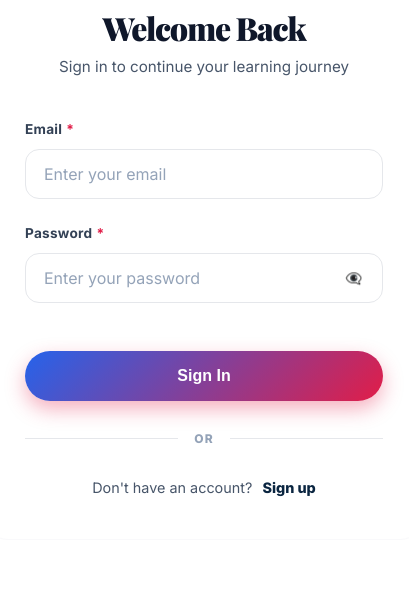
Scenario: LoginForm › shows validation error for invalid email
The width and height of the screenshot is (409, 611).
Type "invalid-email" into the field labelled "Email*" at (204,174), box [25,149,383,199]
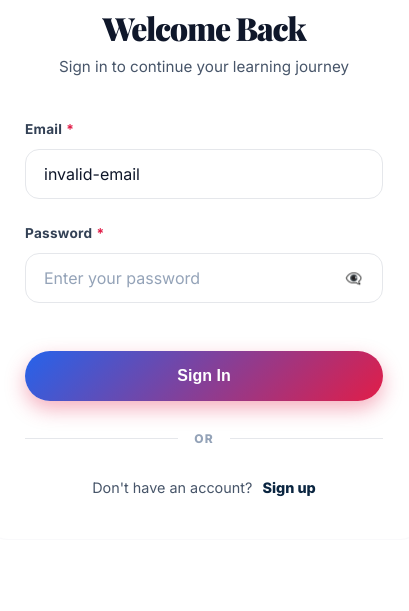
Click the button "Sign In" at (204,376), box [25,351,383,401]
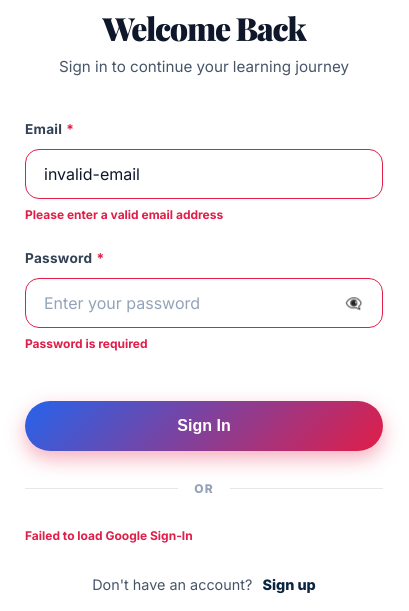
Check: the text "Please enter a valid email address" is shown, box [25,207,223,222]
